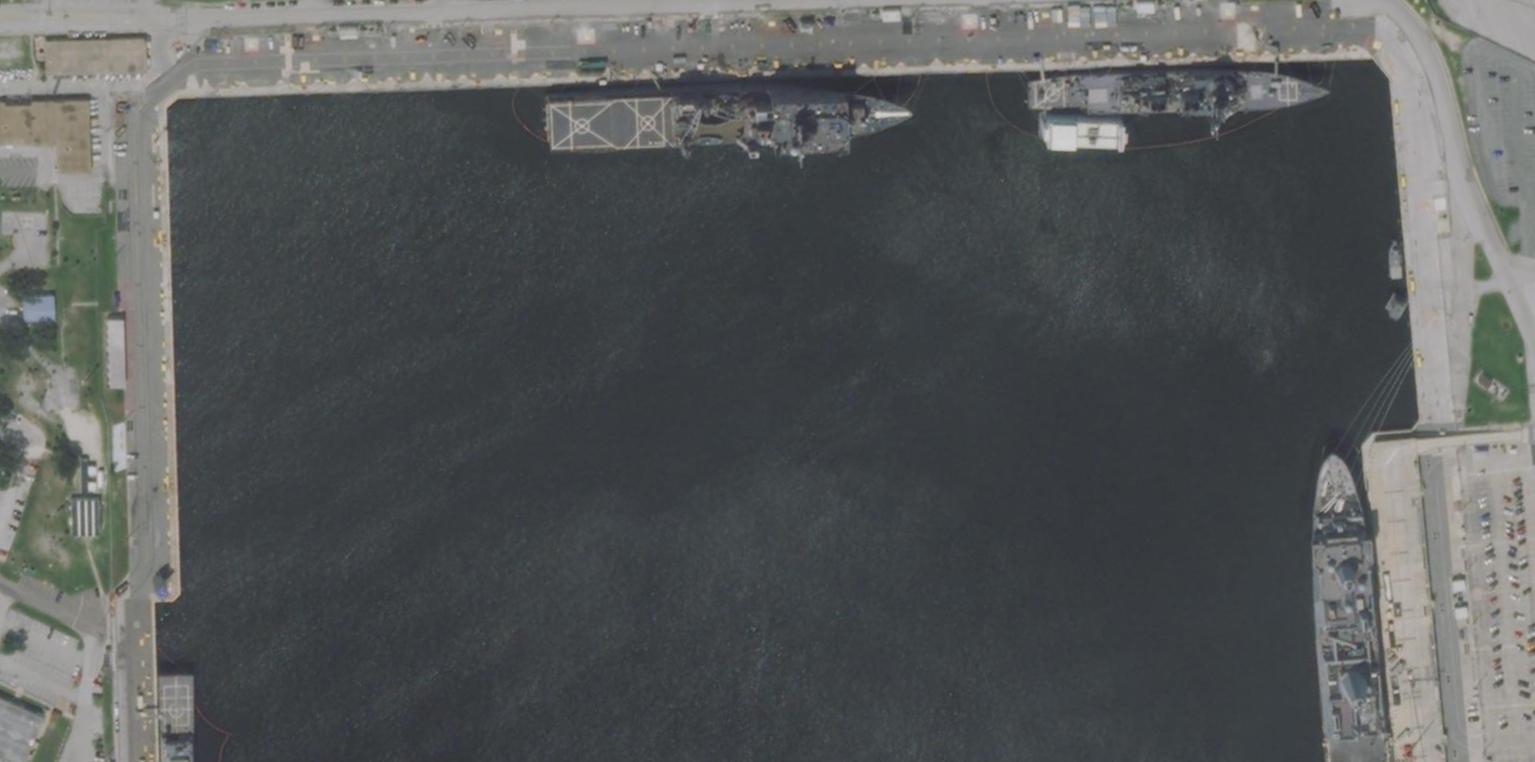amphiby: (526, 78, 920, 168)
fregate: (1015, 50, 1338, 127)
